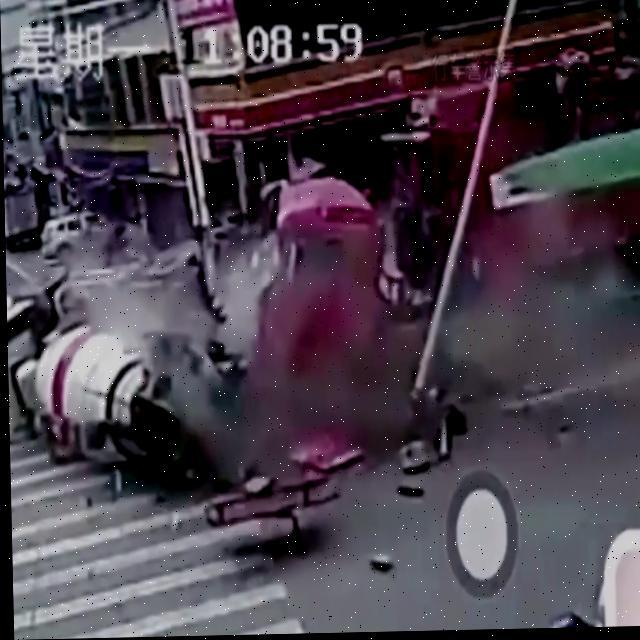multiple_accident: (44, 91, 490, 609)
